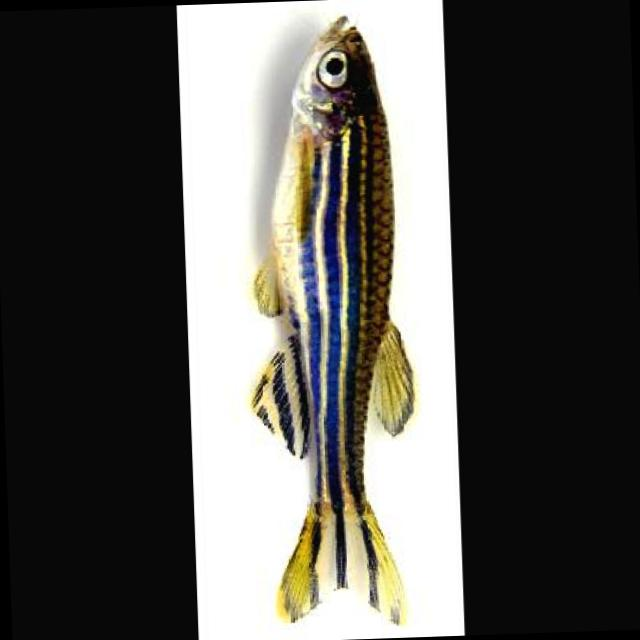ZebraFish: (234, 12, 428, 630)
